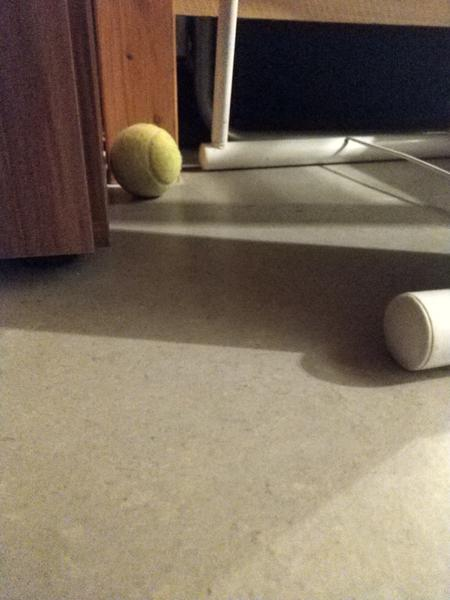Tennisball: (109, 120, 183, 201)
